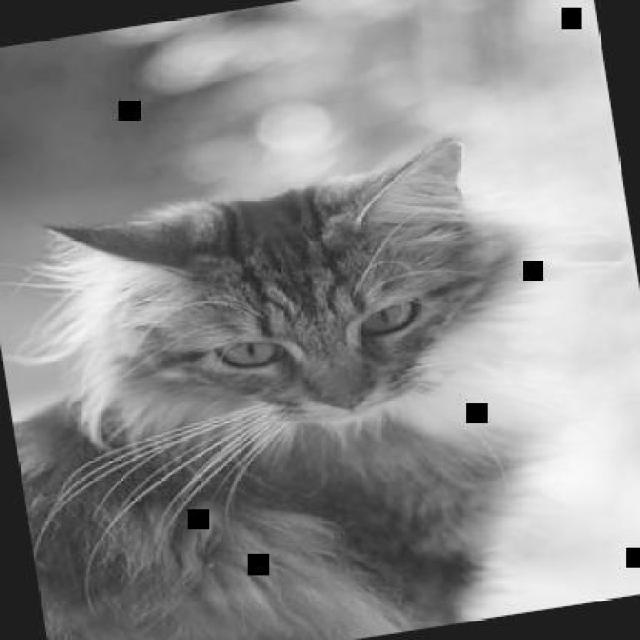cat: (0, 126, 588, 639)
